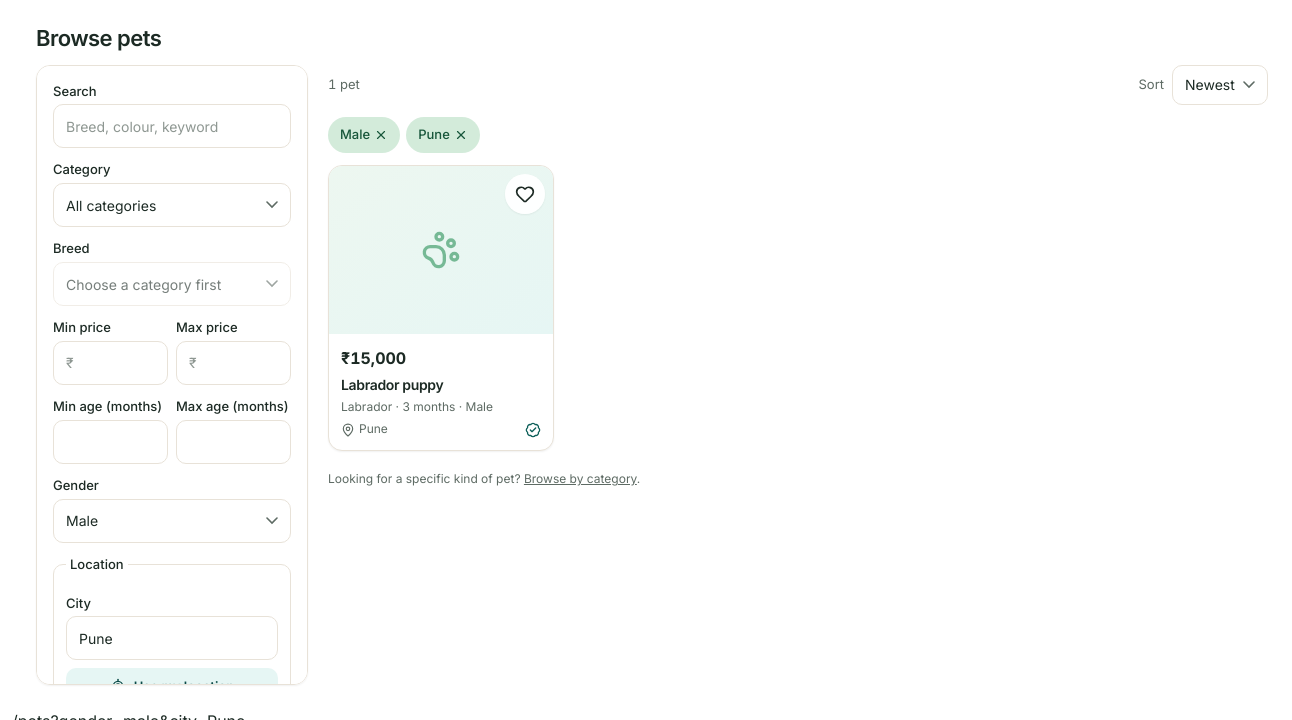
Test: search filters ↔ URL › removing a chip updates the URL and refetches without that filter
The width and height of the screenshot is (1292, 720).
Expected: the link "Labrador puppy" is shown, [341,376,443,393]
Click the button with aria-label "Remove filter Male" at (364, 135), box [328,117,400,153]
(page scrolled)
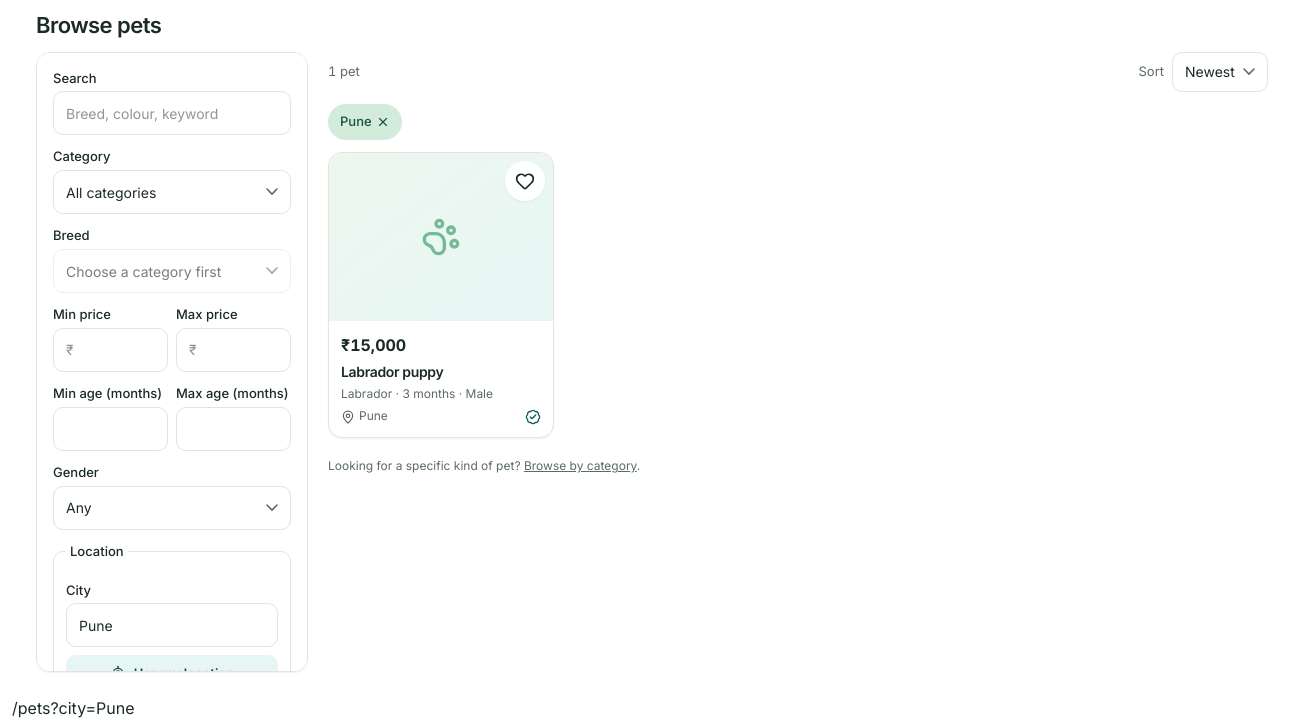
Expected: the text with test id "loc" reads "/pets?city=Pune", [12,698,135,718]
